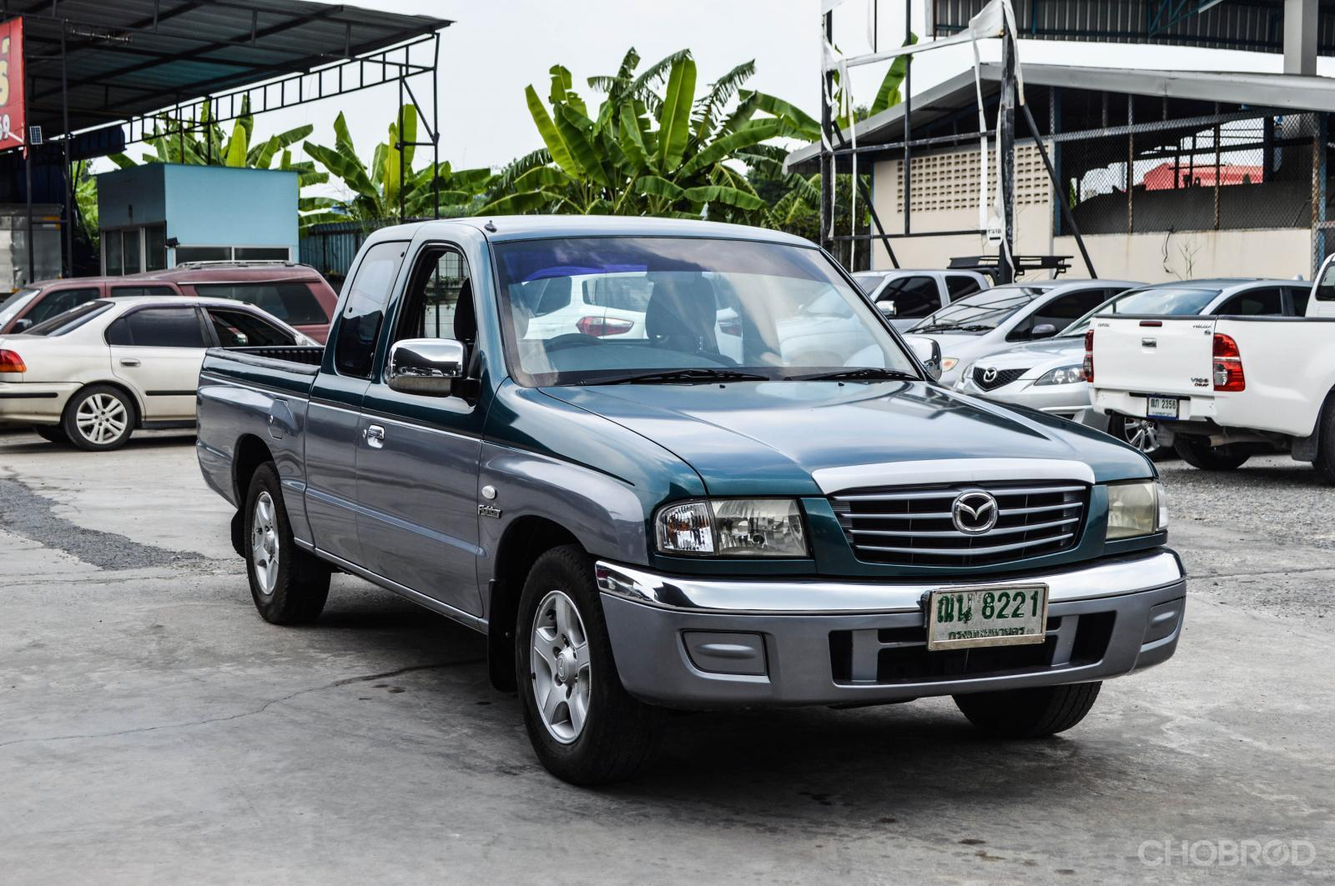license-plate: (925, 580, 1051, 657)
